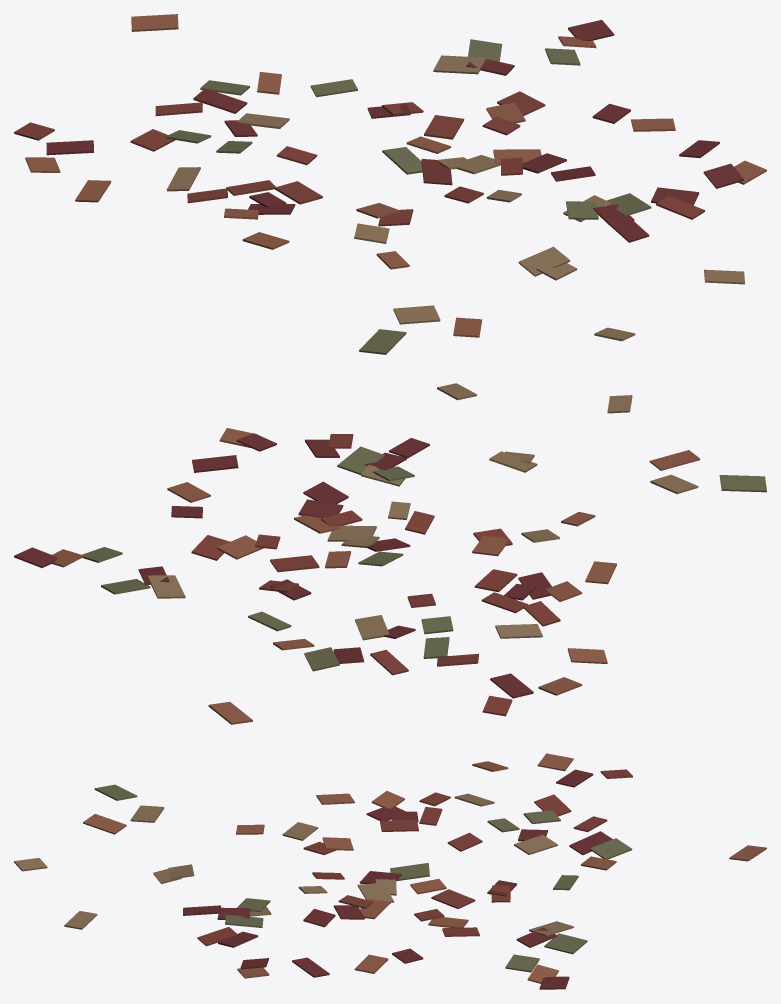
The model's file is frunze_jos_mic.glb.
3 renders of one model, top to bottom at view 1: azimuth 30°, elevation 25°; view 2: azimuth 150°, elevation 25°; view 3: azimuth 270°, elevation 25°, orthographic. The views are drawn at different scales.
Visible parts, largest first — view 1: Frunze; view 2: Frunze; view 3: Frunze.
Part boxes in pixels (x1,y1,x2,y2): Frunze: [14, 14, 766, 354]; Frunze: [14, 383, 766, 724]; Frunze: [14, 753, 766, 989].
Size of the model in its own units: 2.06 by 0.0406 by 2.78.
